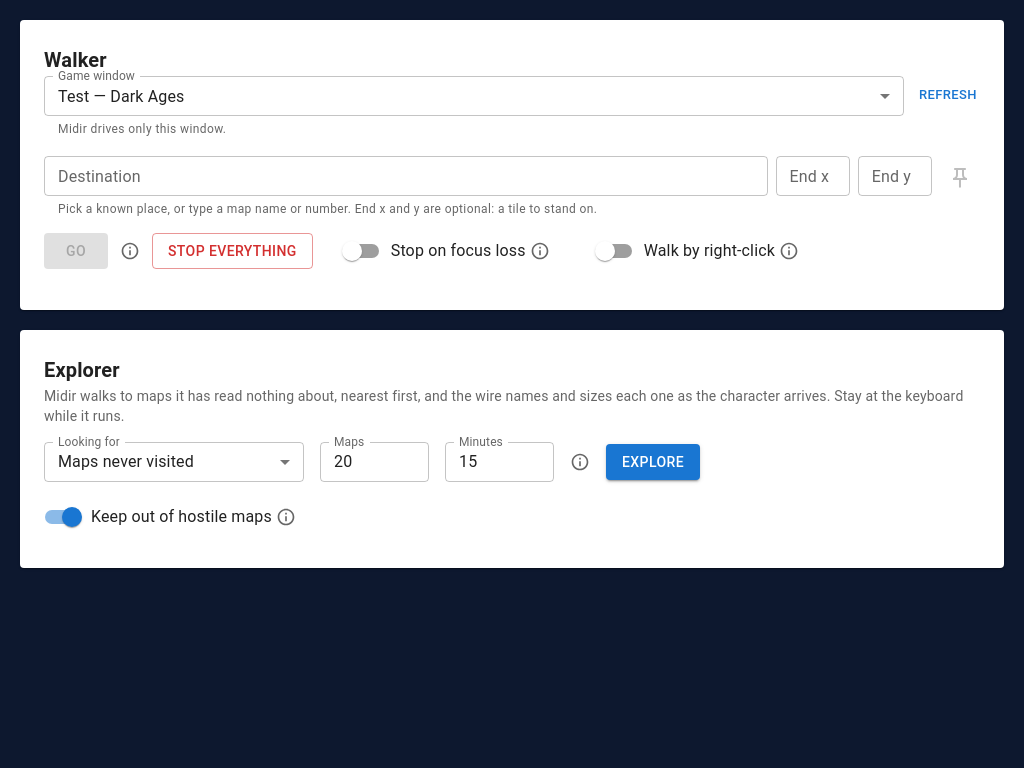
it: a destination Midir cannot reach › offers a place whose only route is unconfirmed, and says so
Expected: the button with test id "walker-go" is shown, [44,233,108,269]
In the dropdown labelled "Destination": (389, 176) [50,162,729,190], type "Mileth Black Magic Master"
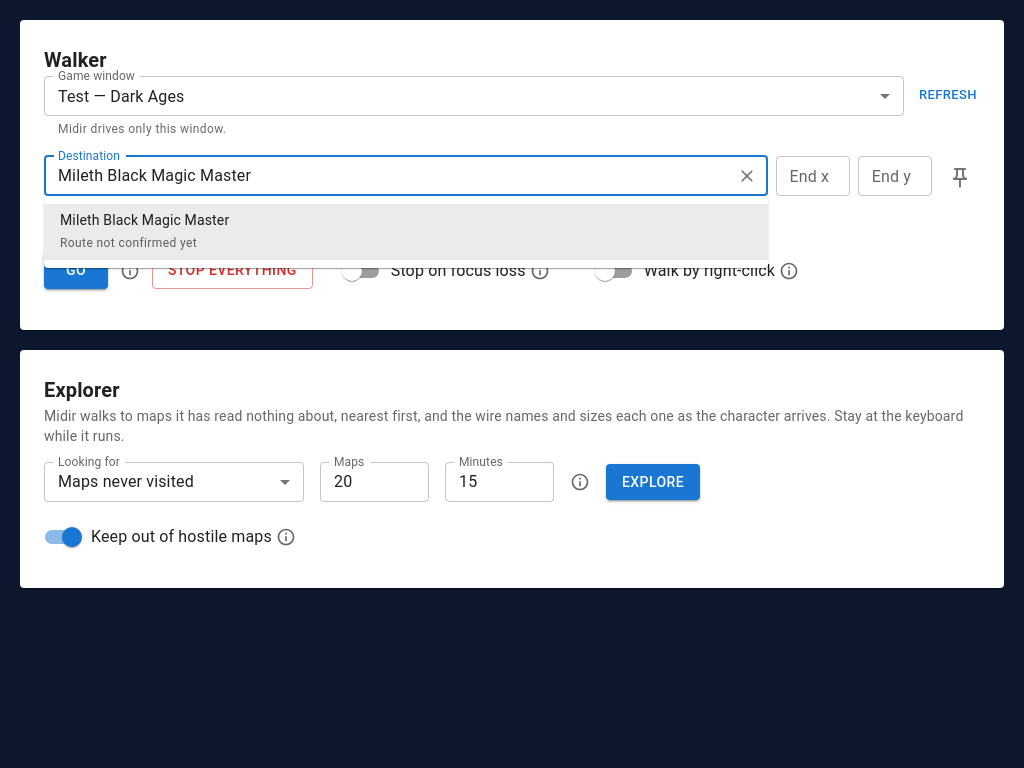
Now the button with test id "walker-go" is enabled, box [44,252,108,289]
Now the text "imported map data, which no walk has confirmed" is shown, box [58,202,745,236]
